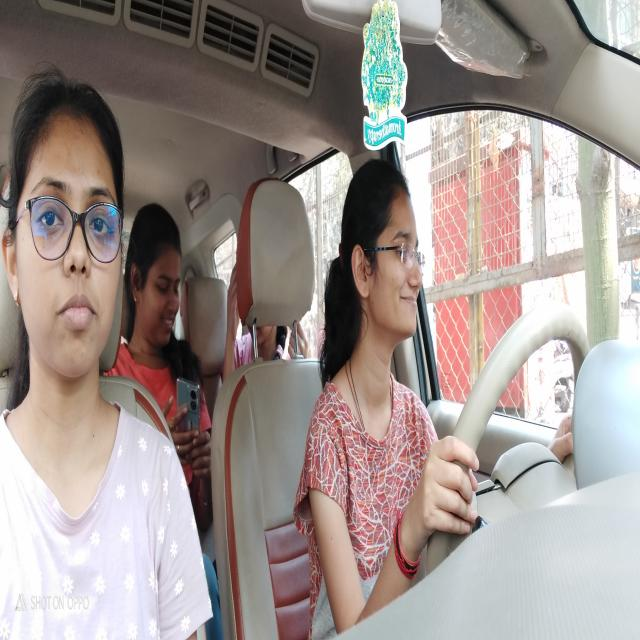person: (2, 78, 126, 385), (348, 160, 430, 360), (128, 199, 184, 361)
